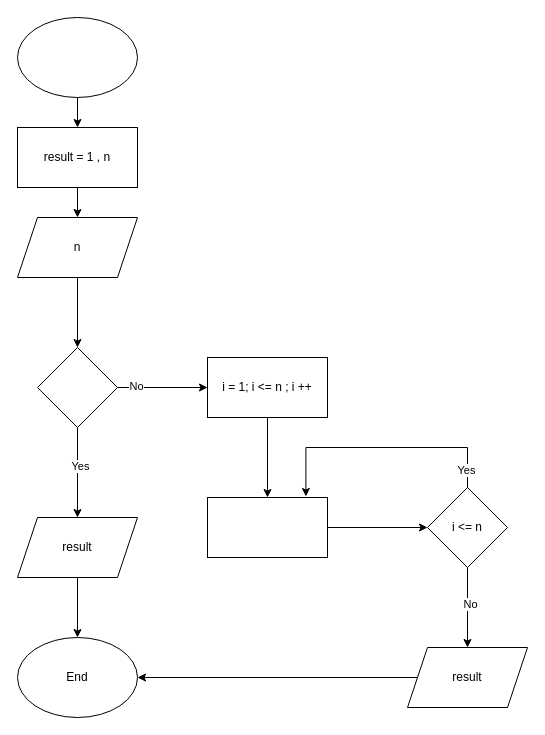
This 545x735 diagram has some shape labels left out. The shapes that lost their labels are listed below. From the top down, each one's box as (x1, y1, x2, y2) in pixels, then its label:
(16, 16, 138, 98): Start
(36, 346, 118, 428): n =0
(206, 496, 328, 558): result = result * i; i = i + 1
